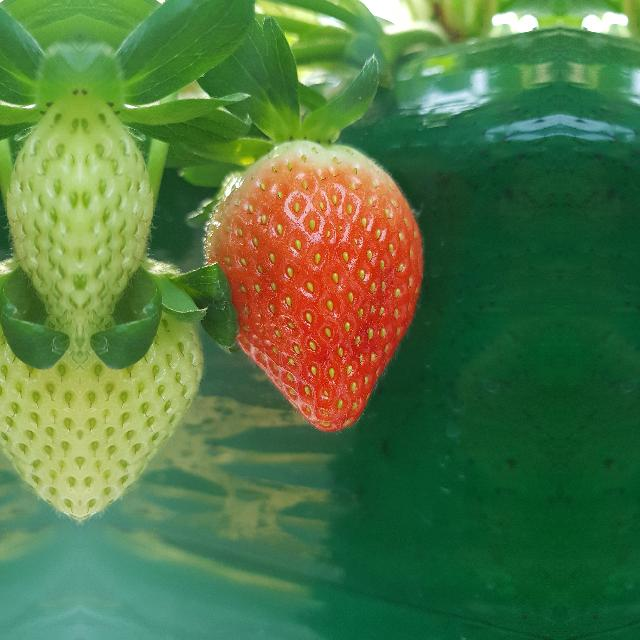Health_100: (202, 140, 424, 434)
Health_25: (80, 272, 208, 546), (0, 271, 80, 546), (13, 70, 78, 330), (82, 70, 146, 330)
